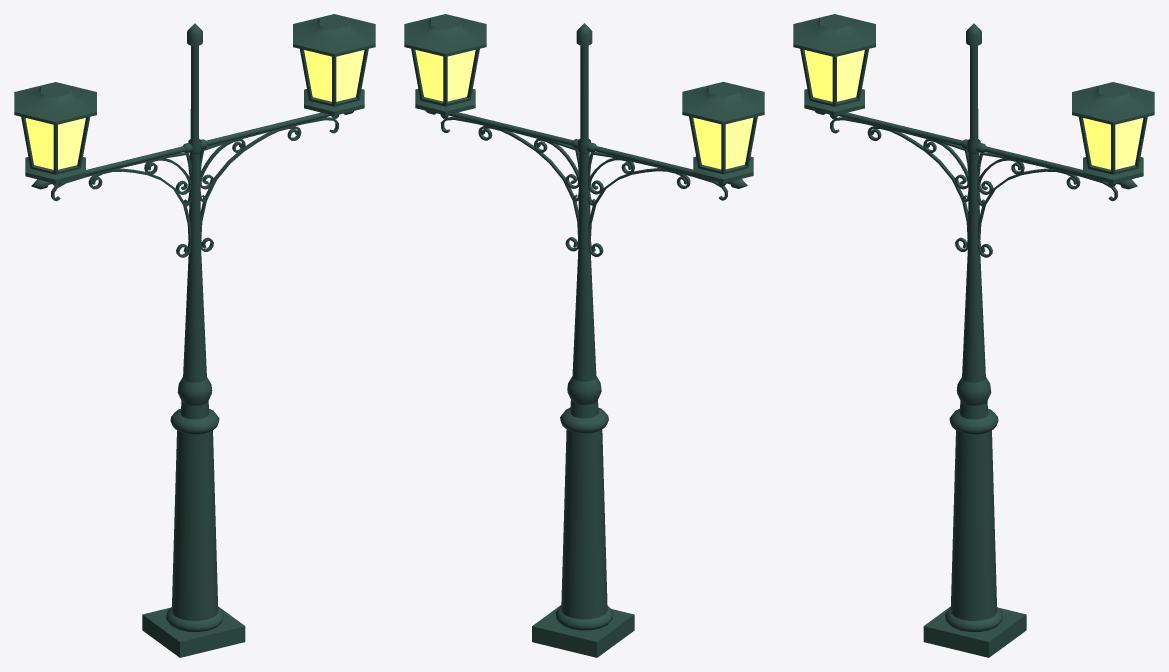
Rendered from Street_Vintage_Y_OrnamentalSupport.fbx.
3 renders of one model, left to right at view 1: azimuth 30°, elevation 25°; view 2: azimuth 150°, elevation 25°; view 3: azimuth 330°, elevation 25°, orthographic.
Visible parts, largest first — view 1: Street_Vintage_Y_OrnamentalSupport_LOD0; view 2: Street_Vintage_Y_OrnamentalSupport_LOD0; view 3: Street_Vintage_Y_OrnamentalSupport_LOD0.
Boxes of the visible parts, x1,y1,x2,y2 form: Street_Vintage_Y_OrnamentalSupport_LOD0: [14, 14, 375, 657]; Street_Vintage_Y_OrnamentalSupport_LOD0: [404, 14, 764, 657]; Street_Vintage_Y_OrnamentalSupport_LOD0: [793, 14, 1154, 657].
Size of what is drawn, in the model's own units: 233 by 379 by 46.16.
